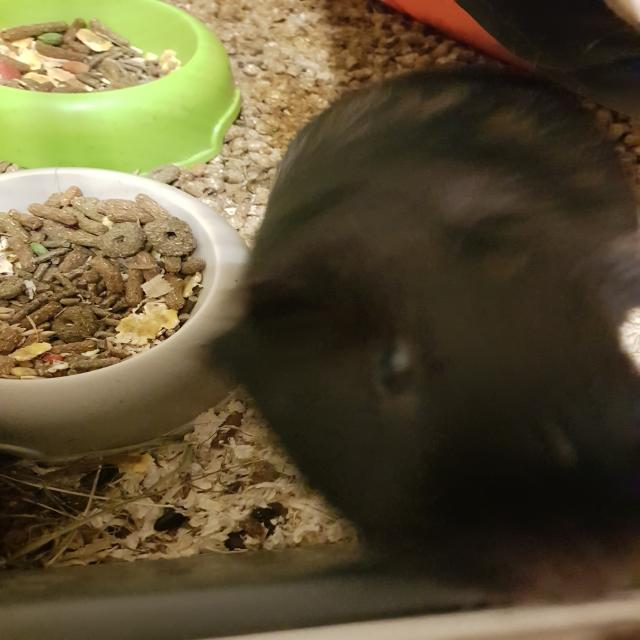guinea pig: (204, 61, 640, 603)
